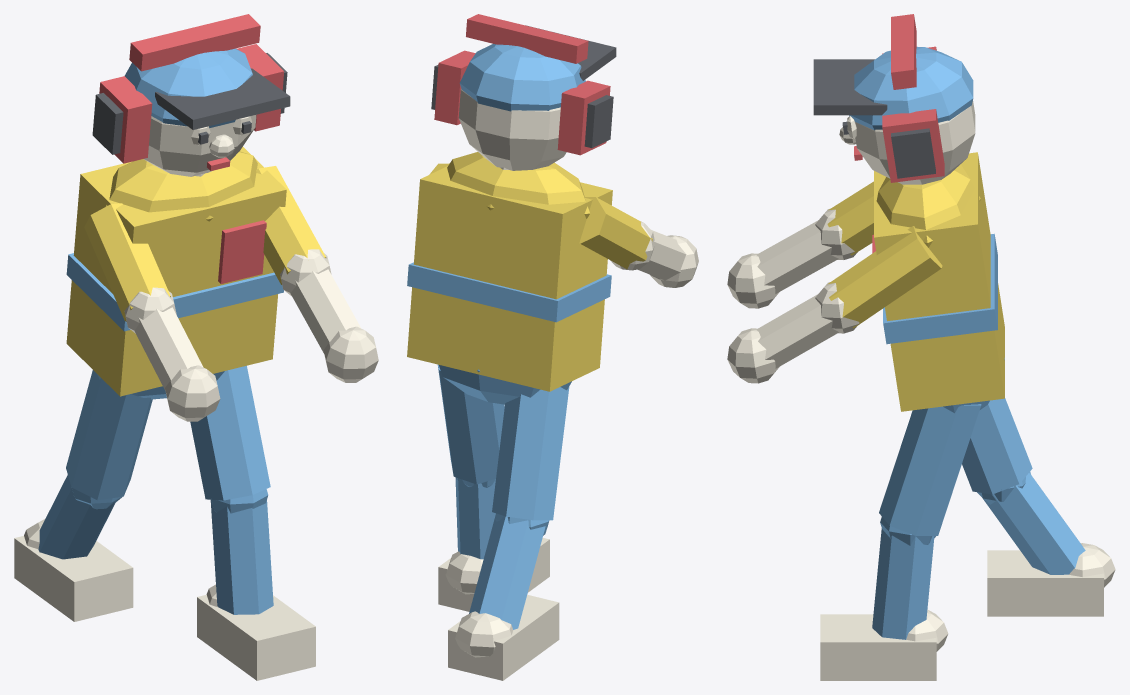
File: lawn-mowing-simulator-kit-mowing-hero-mowing-stance-a809a5b0__27346.glb
3 views of the same model, side by side, from view 1: azimuth 30°, elevation 25°; view 2: azimuth 150°, elevation 25°; view 3: azimuth 270°, elevation 25° (orthographic). The views are drawn at different scales.
Visible parts, largest first — view 1: mowing-hero-mowing-stance; view 2: mowing-hero-mowing-stance; view 3: mowing-hero-mowing-stance.
Part boxes in pixels (box(x1,y1,x2,y2)): mowing-hero-mowing-stance: box(14, 14, 378, 680); mowing-hero-mowing-stance: box(407, 14, 698, 680); mowing-hero-mowing-stance: box(727, 14, 1115, 680).
Size of the model in its own units: 0.6003 by 1.71 by 1.
